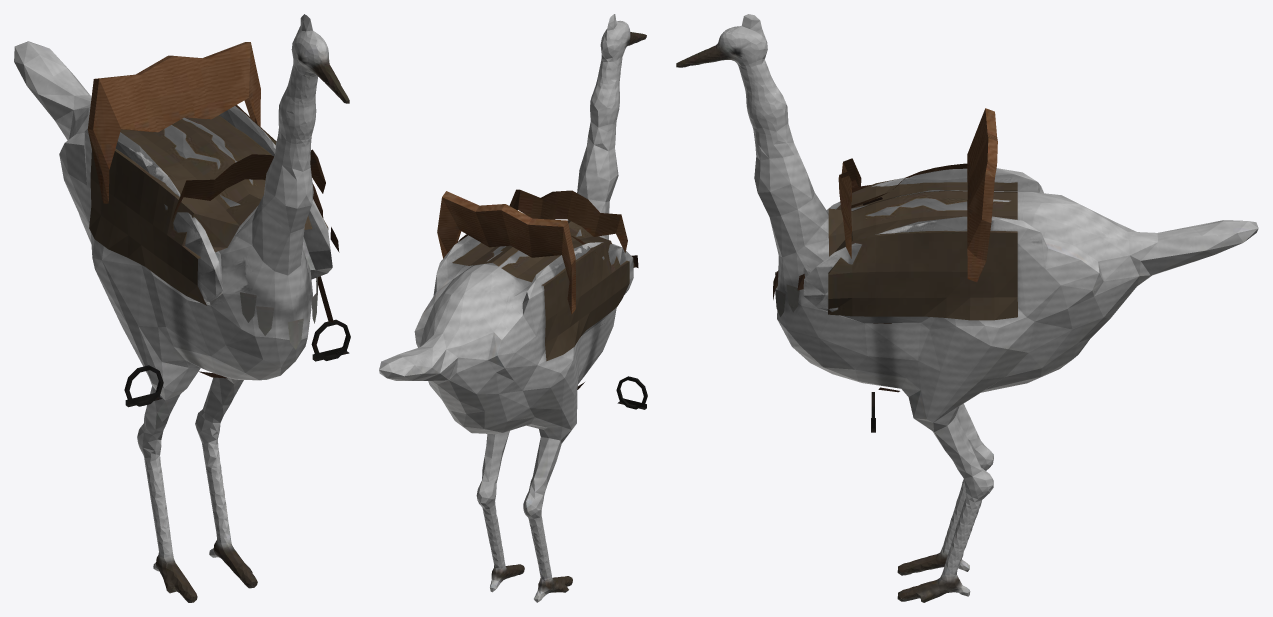
File: horse_strider.glb
3 renders of one model, left to right at view 1: azimuth 30°, elevation 25°; view 2: azimuth 150°, elevation 25°; view 3: azimuth 270°, elevation 25°, orthographic. The views are drawn at different scales.
Parts seen in each view (by area): view 1: horse_strider_LOD0; view 2: horse_strider_LOD0; view 3: horse_strider_LOD0.
Part boxes in pixels (x1,y1,x2,y2): horse_strider_LOD0: [14, 14, 350, 602]; horse_strider_LOD0: [379, 14, 647, 602]; horse_strider_LOD0: [676, 14, 1258, 602].
Size of what is drawn, in the model's own units: 0.7441 by 2.03 by 1.87.
1 material, 1 textured.
